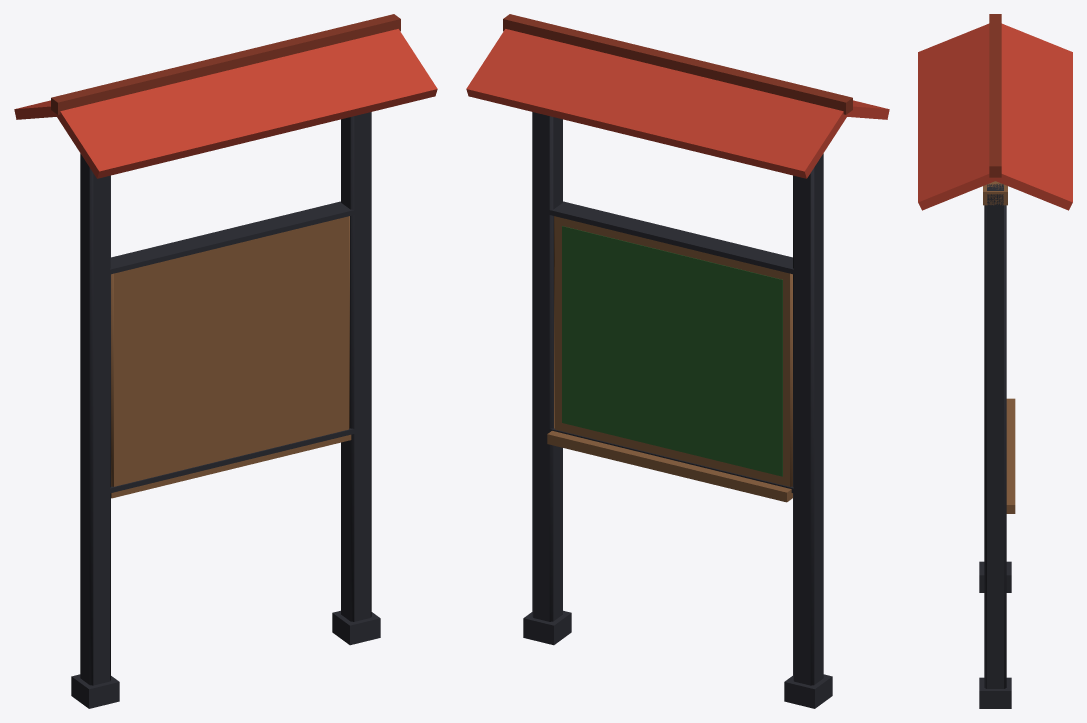
Rendered from noticeboard.glb.
3 views of the same model, side by side, from view 1: azimuth 30°, elevation 25°; view 2: azimuth 150°, elevation 25°; view 3: azimuth 270°, elevation 25° (orthographic). The views are drawn at different scales.
Visible parts, largest first — view 1: body; view 2: body; view 3: body.
Boxes of the visible parts, left/top/right/bottom form: body: left=14, top=14, right=437, bottom=708; body: left=466, top=14, right=889, bottom=708; body: left=918, top=14, right=1072, bottom=708.
Bounding box in the file's own units: 1.46 × 2.48 × 0.6269.
